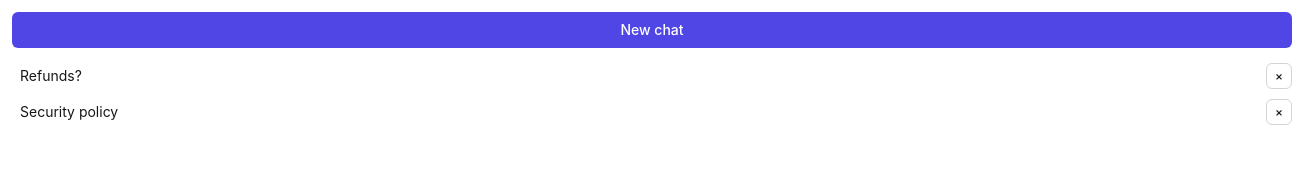
it: ConversationList › shows a message when the delete fails
This screenshot has width=1304, height=192.
Click the button named "Delete chat: Refunds?" at (1279, 76), box top-left (1266, 63), bottom-right (1292, 89)
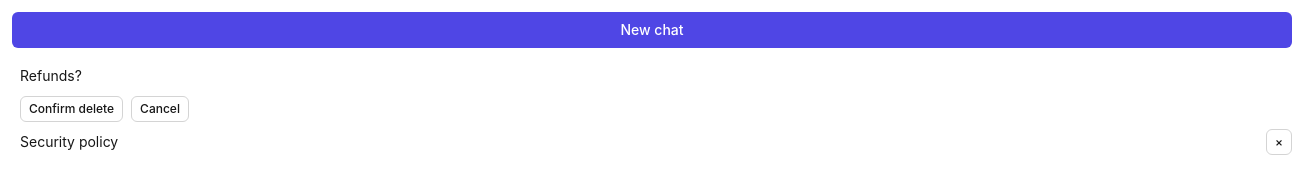
Click the button "Confirm delete" at (72, 109), box top-left (20, 96), bottom-right (123, 122)
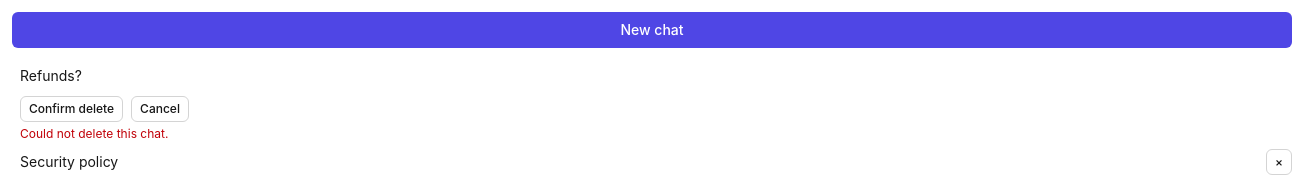
Now the message shows "Could not delete", box top-left (20, 126), bottom-right (168, 141)
